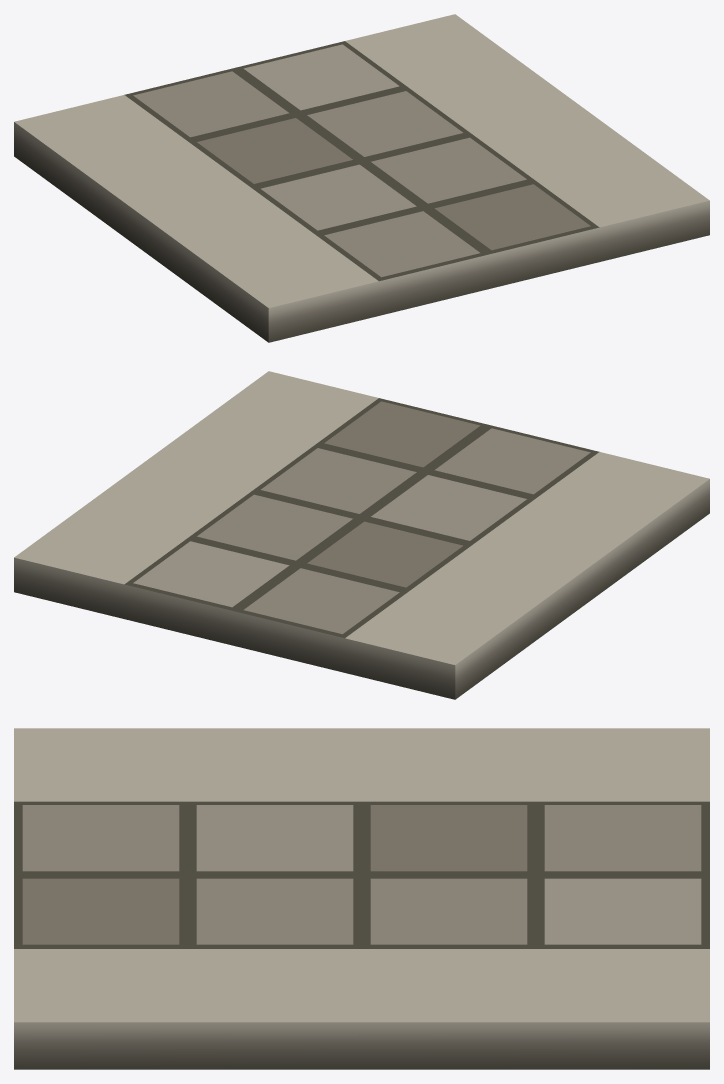
The model's file is Pavement_1J_4x4.fbx.
The picture shows the model from 3 angles, top to bottom: view 1: azimuth 30°, elevation 25°; view 2: azimuth 150°, elevation 25°; view 3: azimuth 270°, elevation 25°; orthographic projection. The views are drawn at different scales.
Parts seen in each view (by area): view 1: Pavement_1J_4x4; view 2: Pavement_1J_4x4; view 3: Pavement_1J_4x4.
Part boxes in pixels (left/top/right/bottom): Pavement_1J_4x4: left=14, top=14, right=709, bottom=342; Pavement_1J_4x4: left=14, top=371, right=709, bottom=699; Pavement_1J_4x4: left=14, top=728, right=709, bottom=1069.
Bounding box in the file's own units: 122 × 9.24 × 122.
